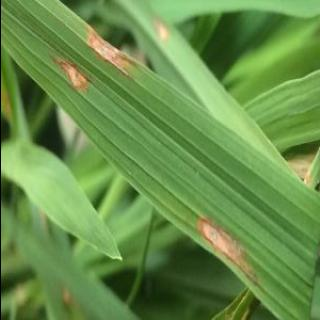Blast: (51, 24, 128, 90)
